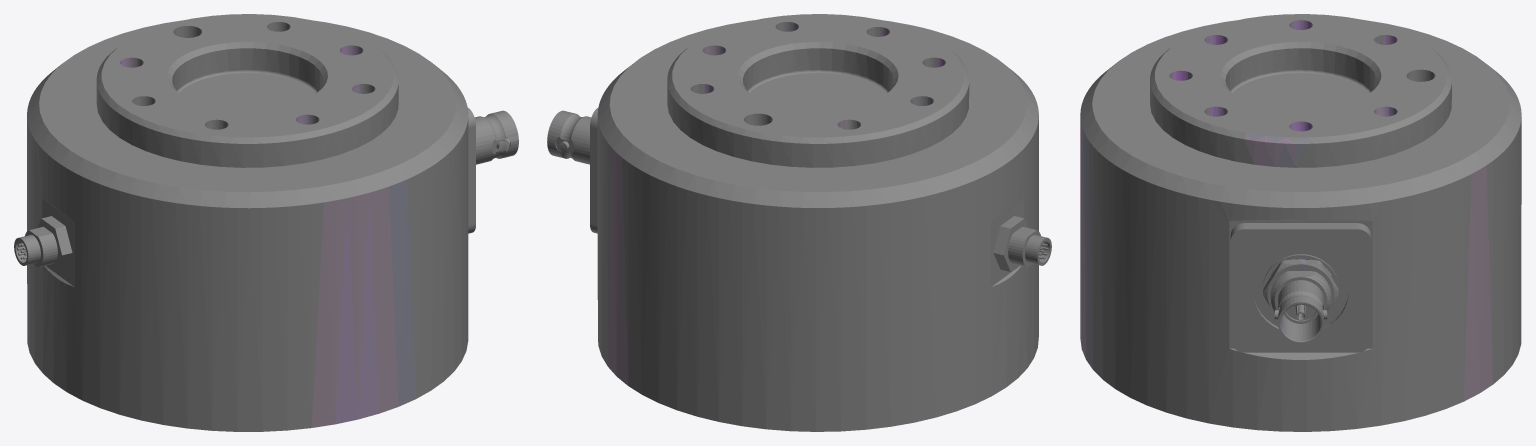
Rendered from FanucCRX5IALink6.dae.
The picture shows the model from 3 angles, left to right: view 1: azimuth 30°, elevation 25°; view 2: azimuth 150°, elevation 25°; view 3: azimuth 270°, elevation 25°; orthographic projection.
Visible parts, largest first — view 1: Fanuc5iALink6; view 2: Fanuc5iALink6; view 3: Fanuc5iALink6.
Boxes of the visible parts, <box> form: Fanuc5iALink6: <box>14,14,518,431</box>; Fanuc5iALink6: <box>547,14,1051,431</box>; Fanuc5iALink6: <box>1080,14,1521,431</box>.
Size of the model in its own units: 0.117 by 0.092 by 0.0605.
